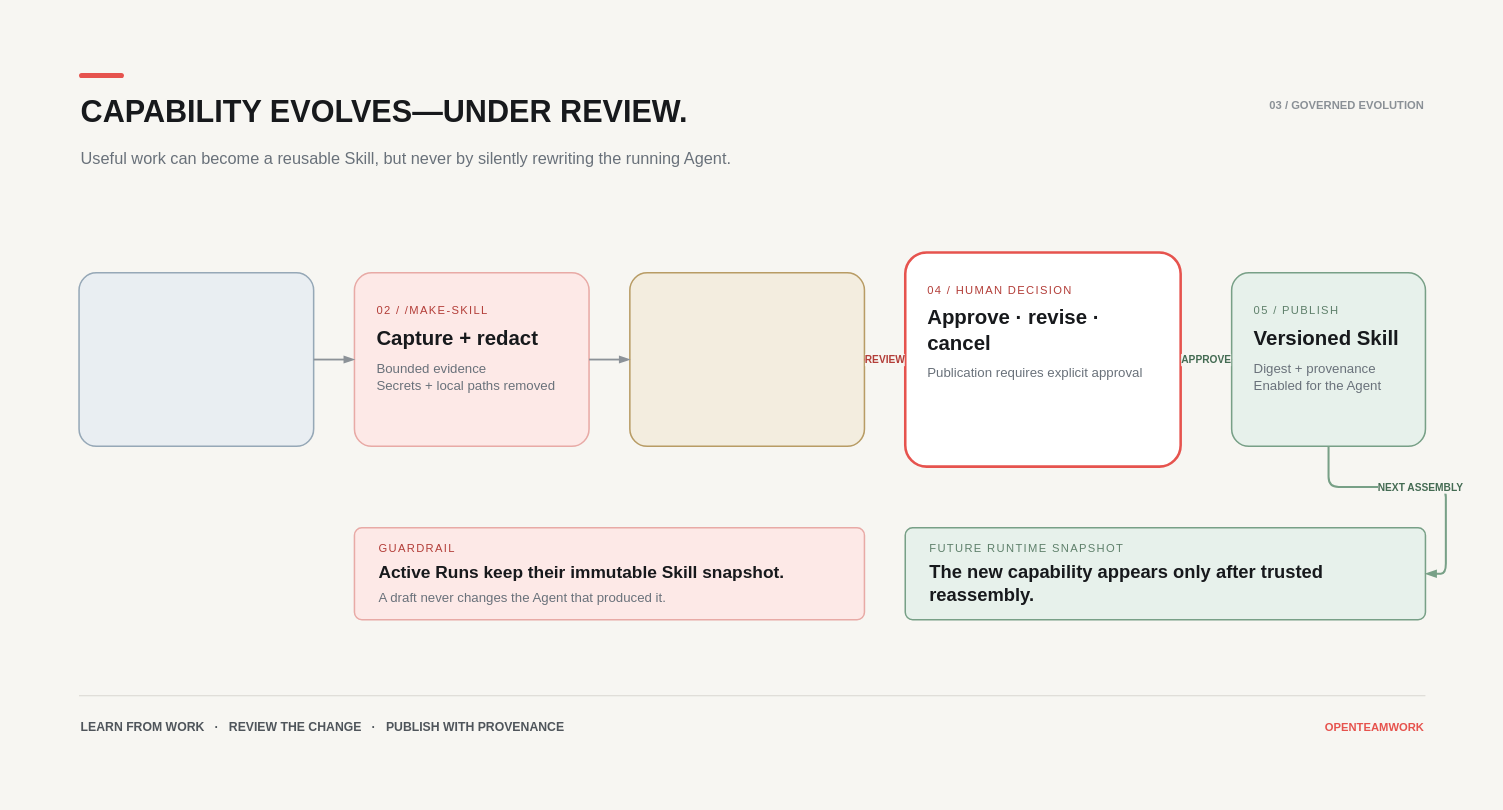
The diagram is 1503 pixels wide and 810 high, and some of its shapes have lost their labels. Each missing label, with the box of its shape:
01 / WORK Successful Session Visible user request + Agent response: (78, 272, 314, 447)
03 / DRAFT Generate + validate Reviewable Skill proposal Source digest pinned: (629, 272, 865, 447)
